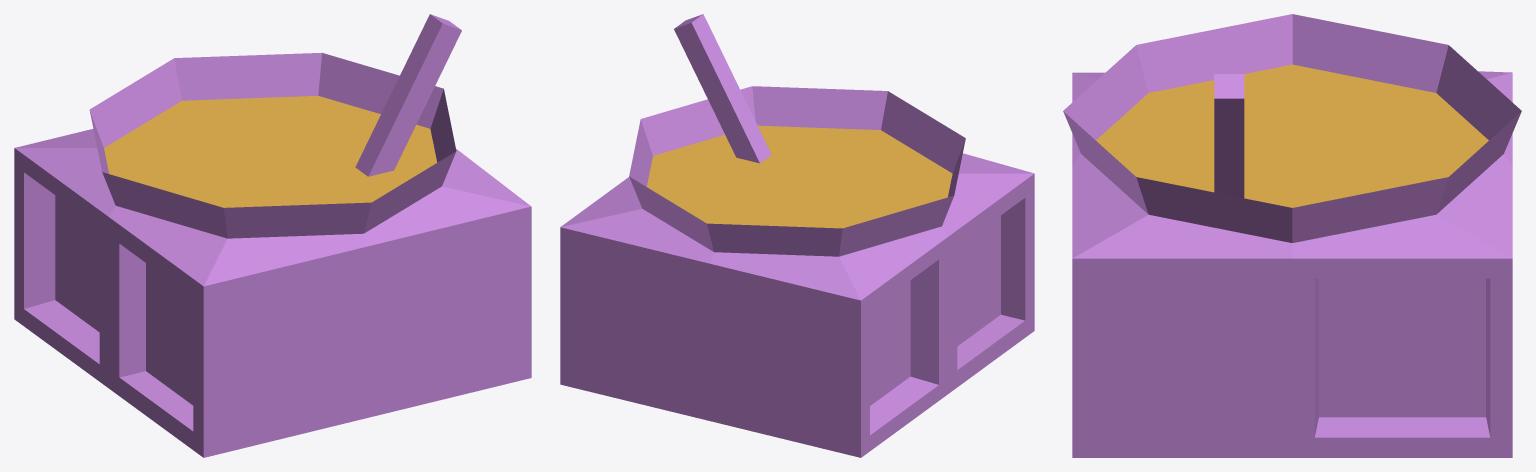
File: mixerPlaceholder.fbx
The picture shows the model from 3 angles, left to right: view 1: azimuth 30°, elevation 25°; view 2: azimuth 150°, elevation 25°; view 3: azimuth 270°, elevation 25°; orthographic projection. The views are drawn at different scales.
Visible parts, largest first — view 1: Cube, Cube.001; view 2: Cube, Cube.001; view 3: Cube, Cube.001.
Part boxes in pixels (x1,y1,x2,y2): Cube: [14, 52, 531, 457]; Cube.001: [355, 14, 461, 176]; Cube: [560, 86, 1034, 457]; Cube.001: [674, 14, 771, 163]; Cube: [1063, 14, 1521, 457]; Cube.001: [1214, 74, 1244, 198].
Size of the model in its own units: 417 by 417 by 369.
